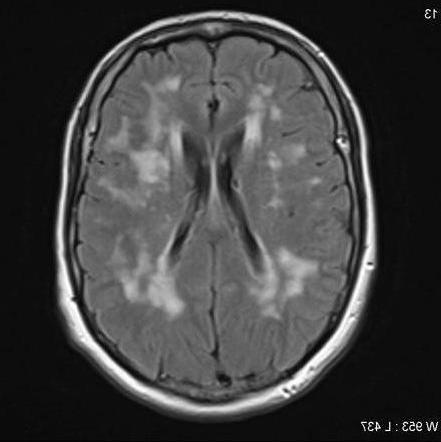Normal_Brain: (4, 4, 441, 442)
